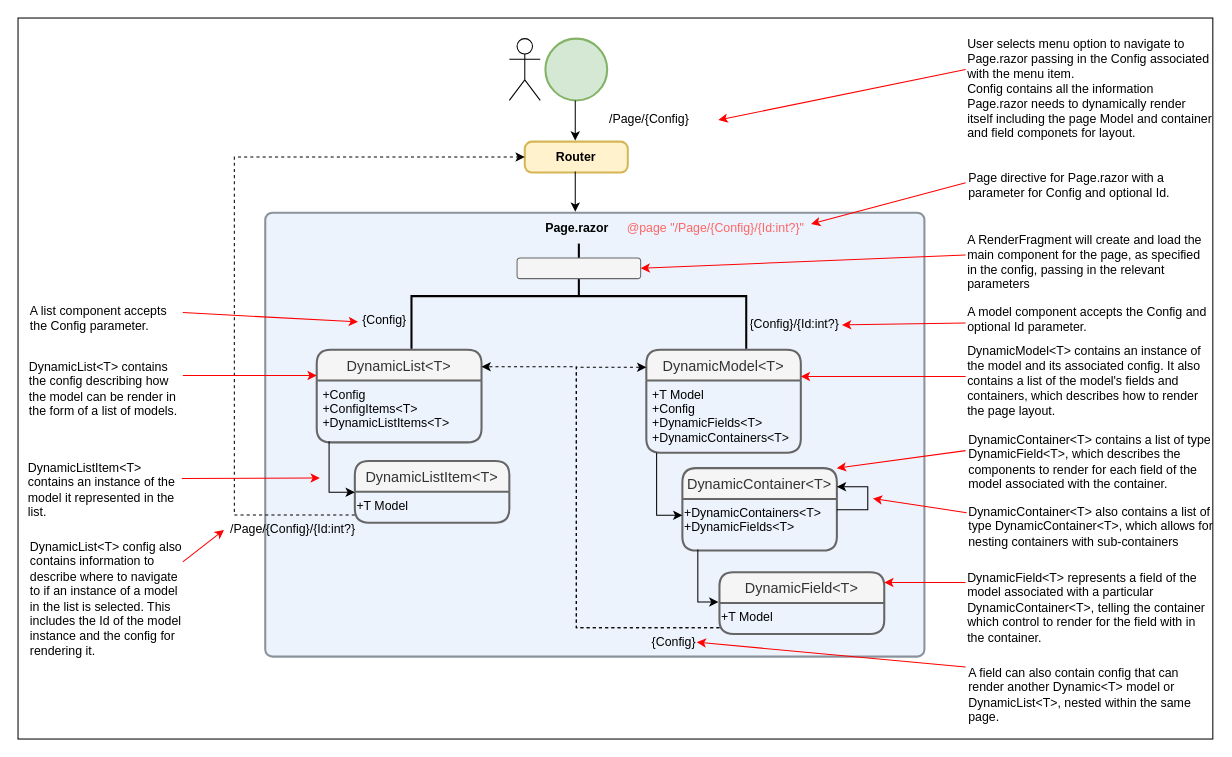
The diagram is 1232 pixels wide and 757 high, and some of its shapes have lost their labels. The centre of each missing label's shape, as x and y in pixels:
Actor: (524,69)
RenderFragment: (578,268)
Start: (576,69)
